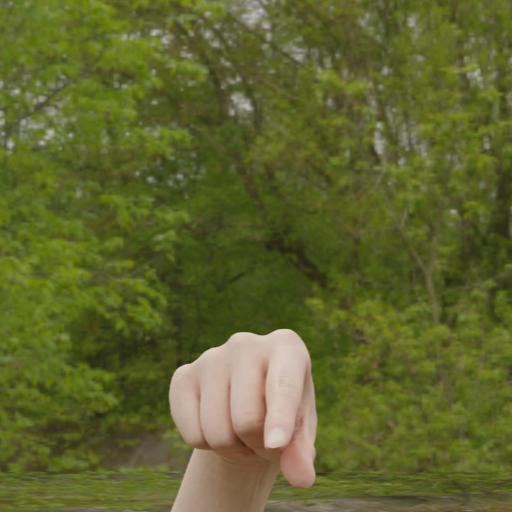Q: (157, 320, 333, 502)
